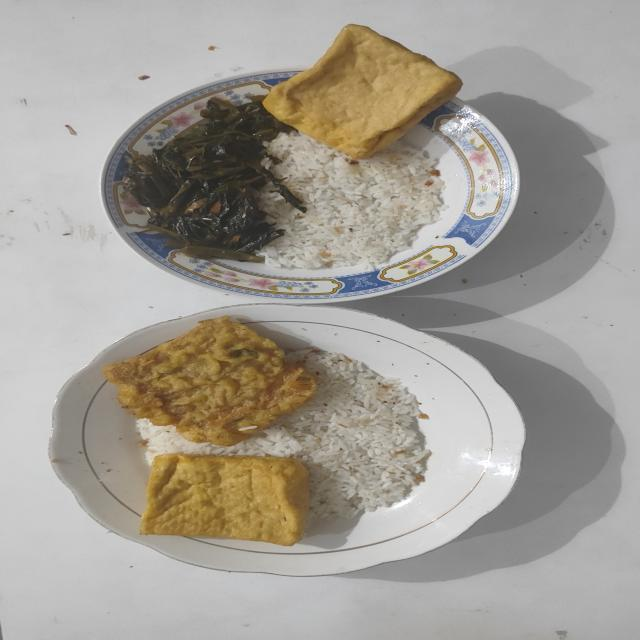nasi_putih: (136, 350, 430, 519), (256, 133, 445, 270)
tahu_goreng: (262, 24, 462, 160), (140, 454, 310, 545)
tumis_kangkung: (124, 96, 306, 262)
